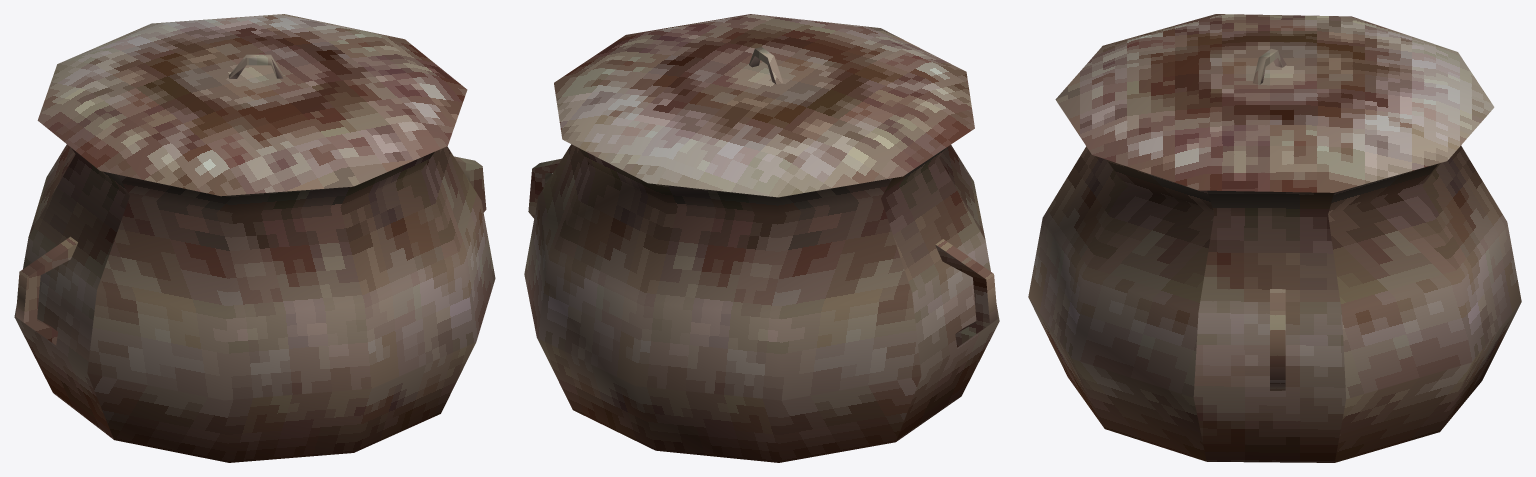
The model's file is mg_magicpot.glb.
3 renders of one model, left to right at view 1: azimuth 30°, elevation 25°; view 2: azimuth 150°, elevation 25°; view 3: azimuth 270°, elevation 25°, orthographic.
Parts seen in each view (by area): view 1: mg_magicpot-col; view 2: mg_magicpot-col; view 3: mg_magicpot-col.
Part boxes in pixels (x1,y1,x2,y2): mg_magicpot-col: (14, 14, 495, 462); mg_magicpot-col: (524, 14, 999, 462); mg_magicpot-col: (1028, 14, 1521, 462).
Size of the model in its own units: 0.425 by 0.2832 by 0.3893.
Materials: 1 (1 with a texture image).
